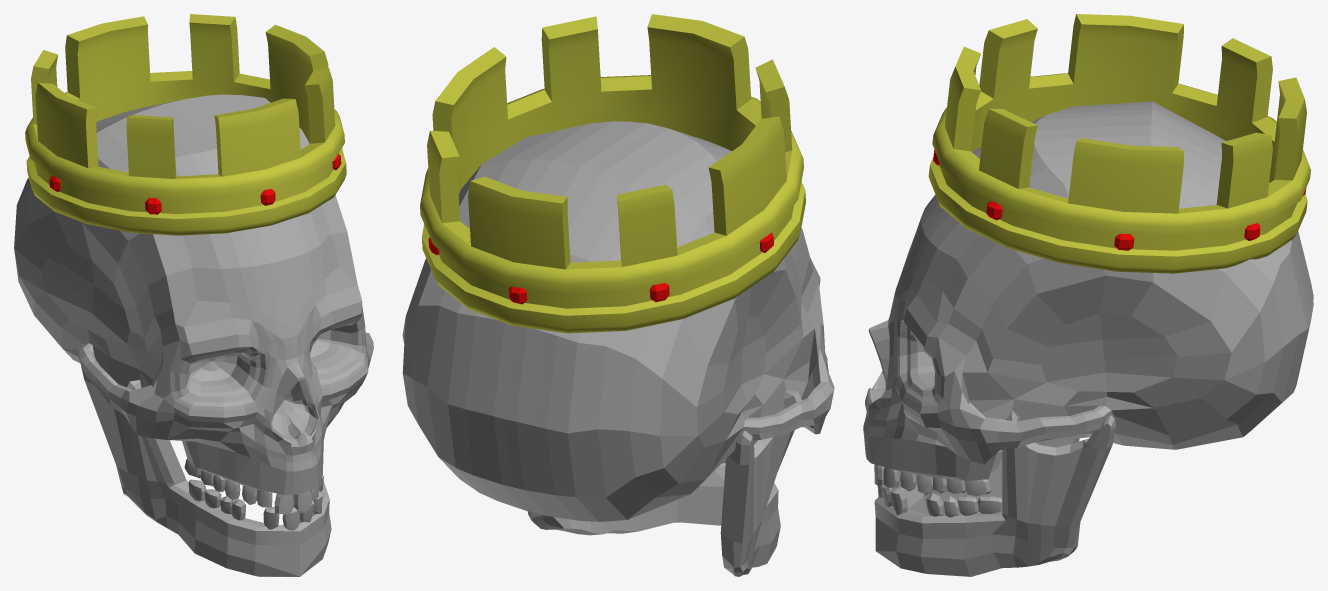
Rendered from Skull_and_crown.fbx.
3 renders of one model, left to right at view 1: azimuth 30°, elevation 25°; view 2: azimuth 150°, elevation 25°; view 3: azimuth 270°, elevation 25°, orthographic. The views are drawn at different scales.
Parts seen in each view (by area): view 1: polySurface30, pCylinder1; view 2: polySurface30, pCylinder1; view 3: polySurface30, pCylinder1.
Boxes of the visible parts, x1,y1,x2,y2 form: polySurface30: [14, 94, 373, 576]; pCylinder1: [25, 14, 346, 235]; polySurface30: [402, 121, 834, 576]; pCylinder1: [420, 14, 805, 333]; polySurface30: [863, 101, 1313, 576]; pCylinder1: [928, 14, 1310, 273].
Bounding box in the file's own units: 48.6 × 76.27 × 63.98.
